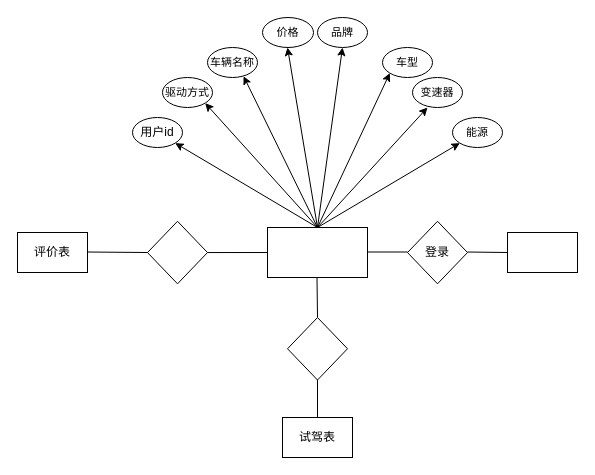
This 595x475 diagram has some shape labels left out. Here are the shapes that lost their labels. From the top down, the box of each, then its label:
(146, 220, 208, 284): 购买
(266, 226, 368, 278): 车辆列表
(506, 232, 578, 272): 用户表
(286, 316, 348, 380): 预约
